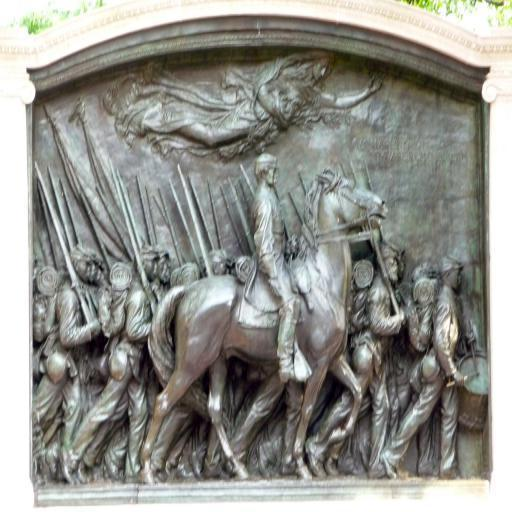horse: (138, 162, 390, 481)
